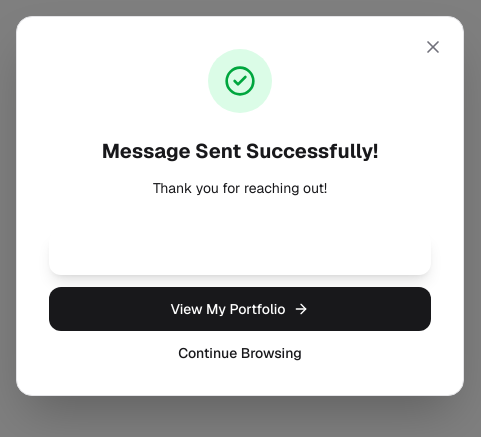
Scenario: SuccessModal › booking step › navigates to booking step when book consultation is clicked
This screenshot has width=481, height=437.
Click the button "Book a Free Consultation" at (240, 253), box [49,231,431,275]
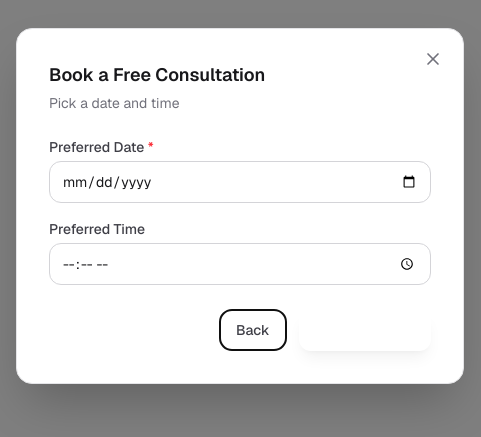
Result: the text "Pick a date and time" is shown at [49,94,180,112]
